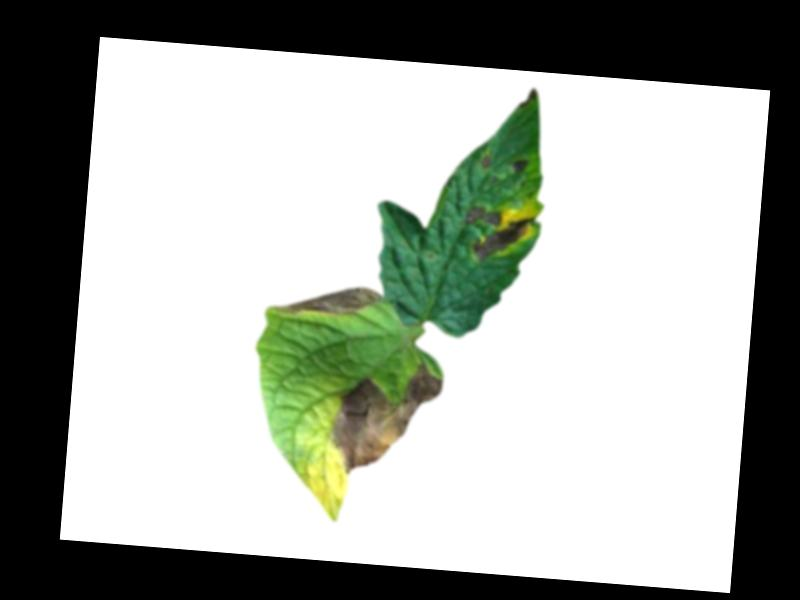Early_blight: (326, 354, 448, 482), (274, 280, 385, 324), (463, 206, 537, 266), (518, 88, 540, 111), (513, 158, 528, 175), (481, 153, 491, 170)
